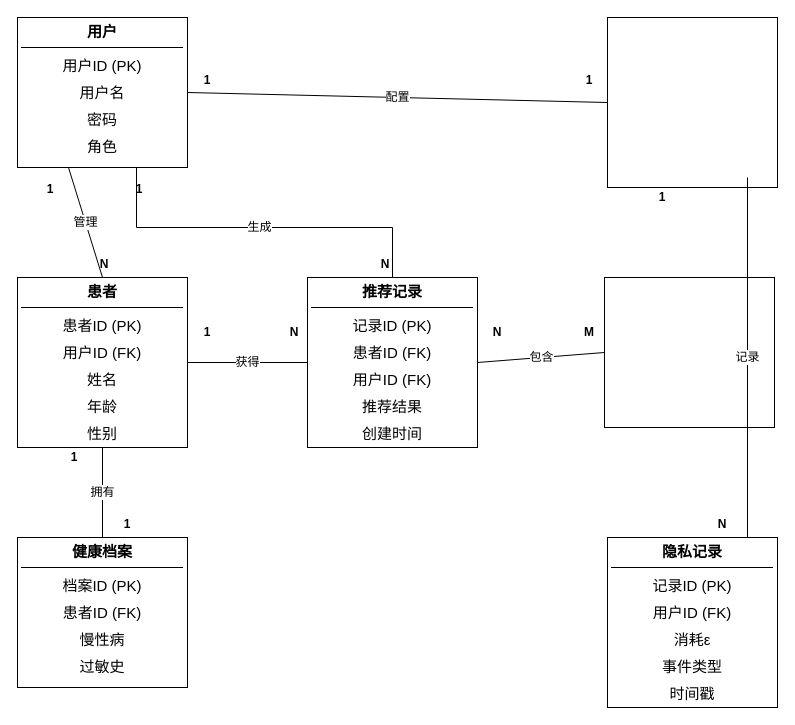
This 795x725 diagram has some shape labels left out. The centre of each missing label's shape, as x and y in pixels:
药品 药品ID (PK) 药品名 适应症 禁忌症: point (689, 352)
隐私配置 配置ID (PK) 用户ID (FK) ε参数 δ参数 预算额度: point (692, 102)
